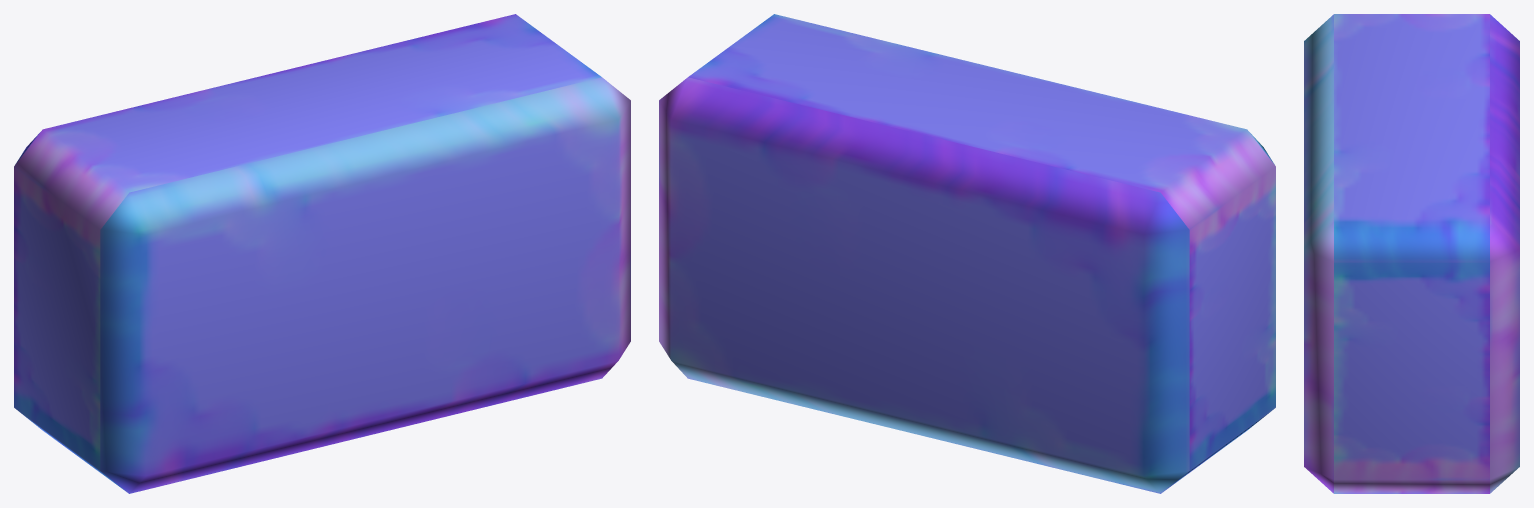
File: sm_wall_detail_02.fbx
The picture shows the model from 3 angles, left to right: view 1: azimuth 30°, elevation 25°; view 2: azimuth 150°, elevation 25°; view 3: azimuth 270°, elevation 25°; orthographic projection. The views are drawn at different scales.
Parts seen in each view (by area): view 1: sm_wall_detail_02; view 2: sm_wall_detail_02; view 3: sm_wall_detail_02.
Part boxes in pixels (bbox=[...]): sm_wall_detail_02: bbox=[14, 14, 630, 493]; sm_wall_detail_02: bbox=[659, 14, 1275, 493]; sm_wall_detail_02: bbox=[1304, 14, 1519, 493].
Bounding box in the file's own units: 47.84 × 25.98 × 18.69.
Materials: 1 (1 with a texture image).
